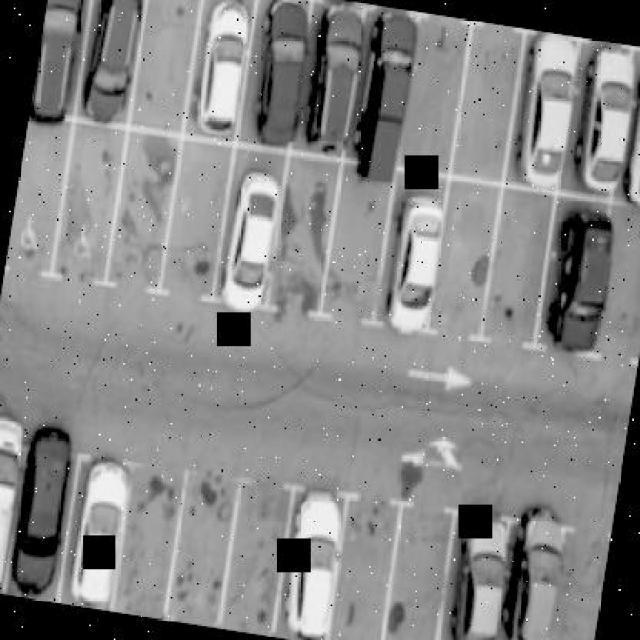car: (384, 171, 458, 331), (350, 4, 419, 170), (276, 478, 352, 628), (241, 0, 314, 149), (548, 194, 624, 336), (509, 30, 577, 187), (306, 0, 371, 148), (570, 54, 638, 194), (444, 506, 514, 640), (18, 431, 77, 580), (197, 0, 260, 129), (78, 461, 138, 596), (222, 174, 286, 300), (498, 531, 568, 640), (86, 0, 142, 117), (32, 0, 86, 98), (0, 423, 20, 569), (624, 79, 640, 192)
free: (398, 18, 468, 164), (486, 201, 552, 327), (456, 29, 512, 162), (116, 140, 176, 260), (325, 517, 383, 640), (138, 0, 196, 122), (389, 523, 449, 640), (331, 171, 387, 295), (277, 172, 331, 298), (173, 486, 227, 612), (444, 194, 493, 328), (59, 154, 112, 263), (171, 152, 220, 268), (10, 130, 61, 241), (127, 496, 175, 610), (232, 509, 280, 622), (554, 535, 604, 640), (606, 231, 640, 346)
